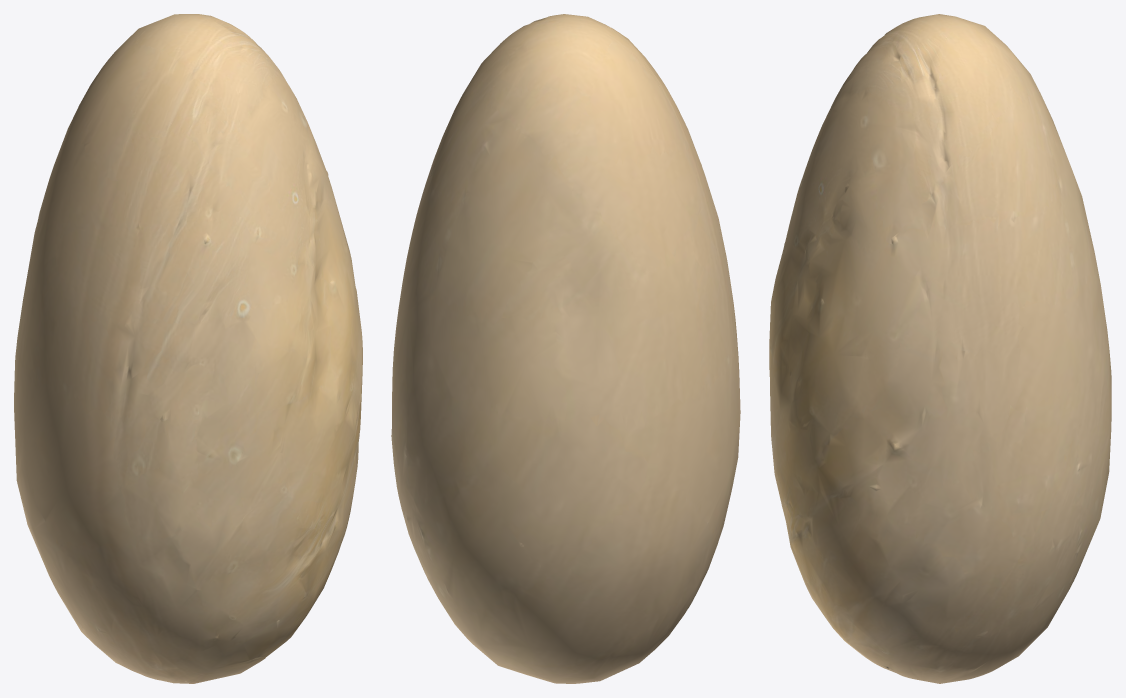
File: ant-egg.glb
3 renders of one model, left to right at view 1: azimuth 30°, elevation 25°; view 2: azimuth 150°, elevation 25°; view 3: azimuth 270°, elevation 25°, orthographic.
Bounding box in the file's own units: 0.9061 × 1.91 × 0.9129.
1 material, 1 textured.
